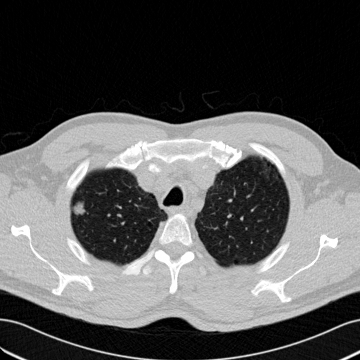nodule: (73, 202, 85, 214)
